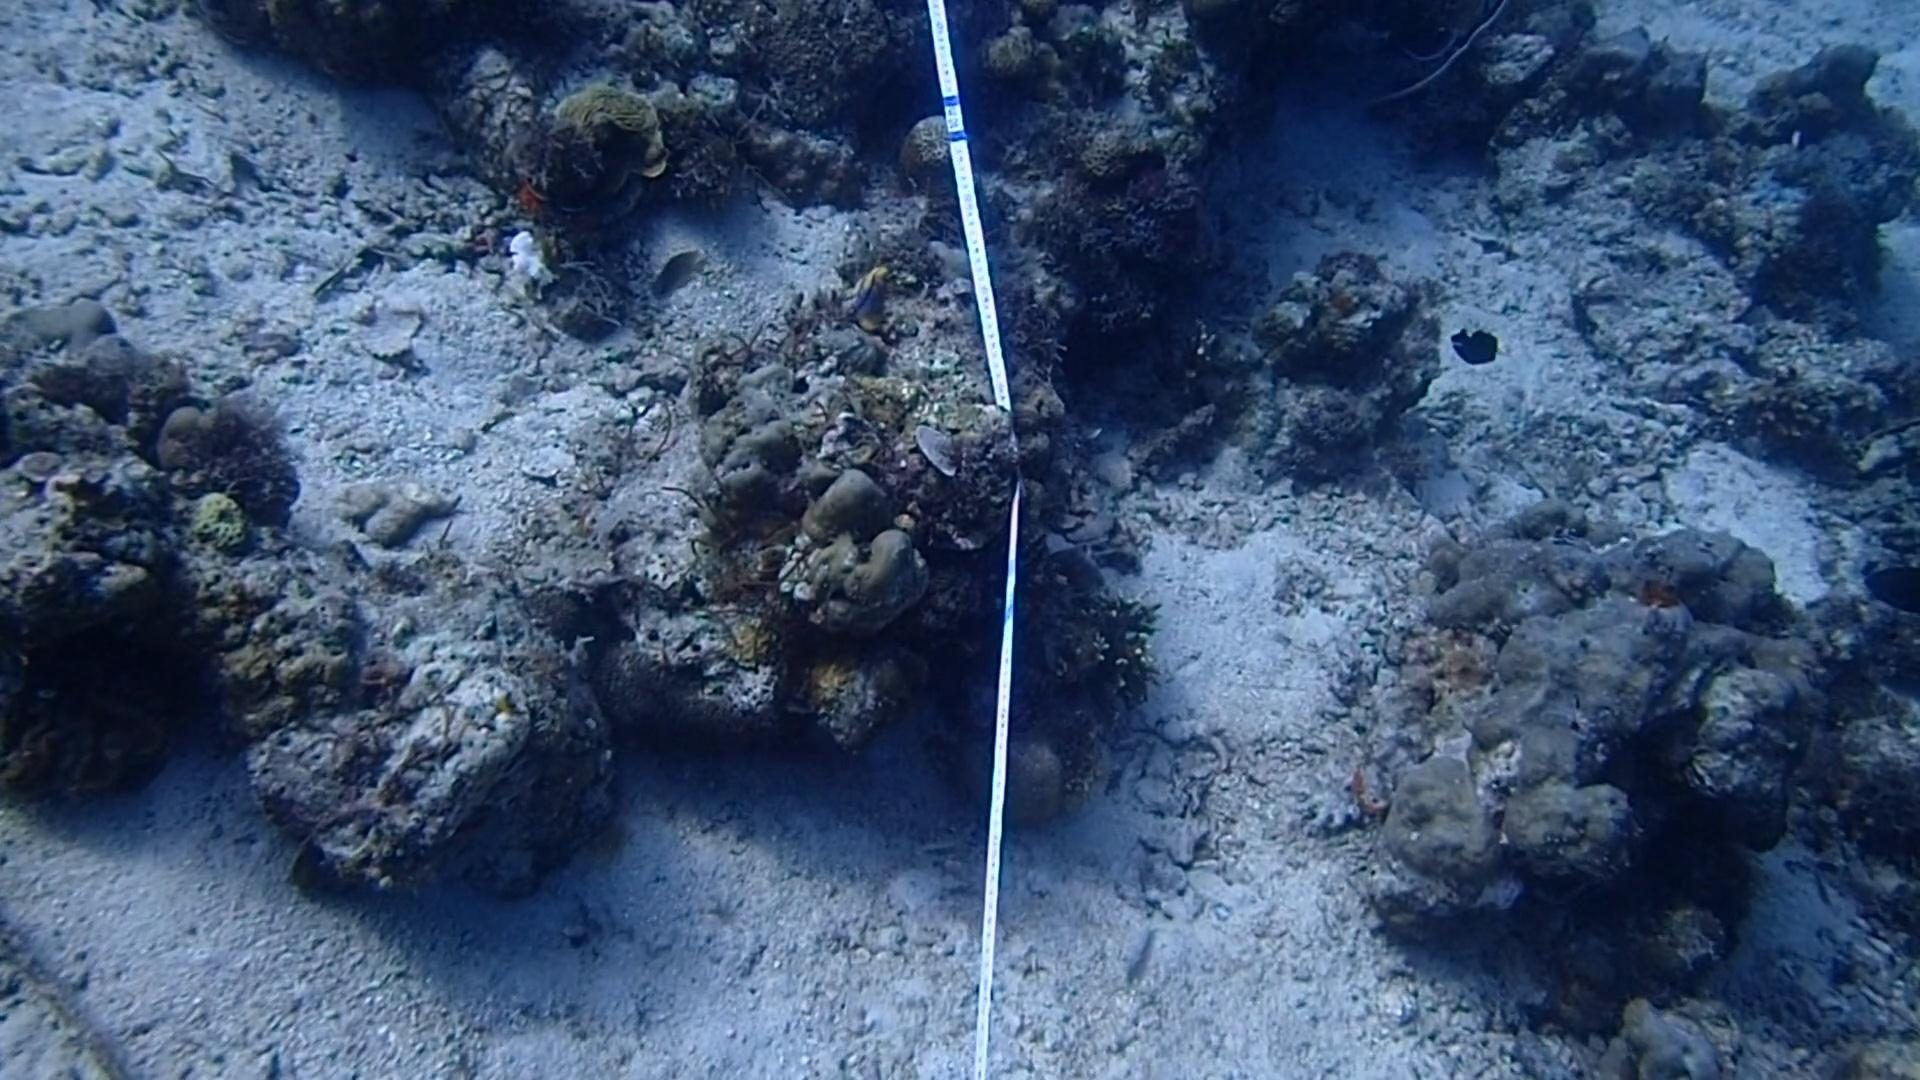Dark Fish: (1862, 555, 1920, 628), (1441, 315, 1505, 375)
Light Fish: (647, 241, 705, 303)
